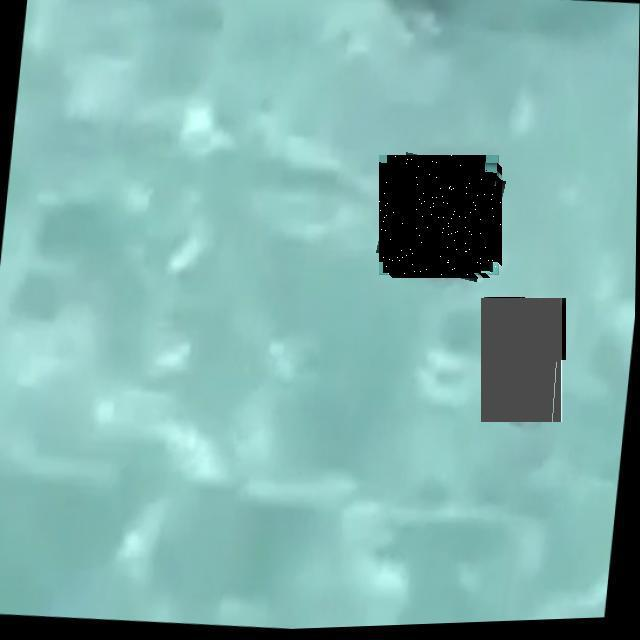swimming: (379, 156, 502, 278), (482, 298, 566, 422)
